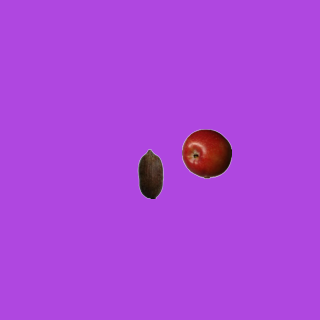Apple Braeburn: (181, 128, 231, 178)
Nut Pecan: (125, 148, 175, 198)
